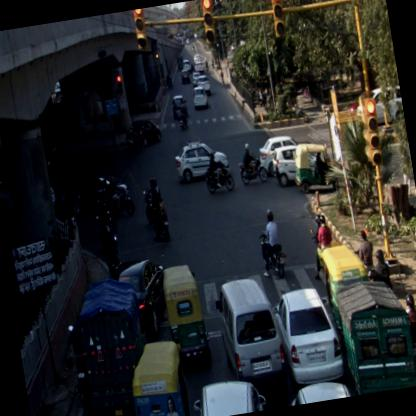car: (272, 280, 346, 388), (214, 274, 286, 384), (110, 255, 172, 341), (190, 375, 270, 415), (172, 134, 230, 183), (257, 134, 306, 178), (270, 144, 308, 186), (127, 116, 162, 145), (190, 84, 210, 110), (171, 94, 188, 120), (195, 77, 211, 97), (178, 69, 190, 85)
motorcycle: (256, 209, 289, 280), (98, 172, 136, 219), (201, 146, 236, 195), (235, 140, 268, 186), (140, 175, 164, 226), (402, 291, 415, 382), (148, 195, 172, 243), (176, 102, 189, 128)
truck: (67, 275, 158, 415), (333, 272, 415, 396)
